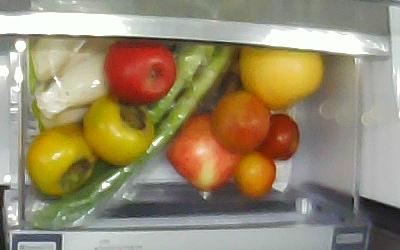apple: (168, 113, 241, 188), (104, 37, 178, 107)
grapefruit: (239, 45, 324, 109)
persimmon: (84, 94, 154, 165), (27, 127, 96, 194)
prune: (213, 91, 271, 152), (257, 112, 300, 160), (236, 150, 277, 198)
